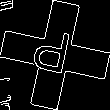P_S: (32, 27, 78, 83)
